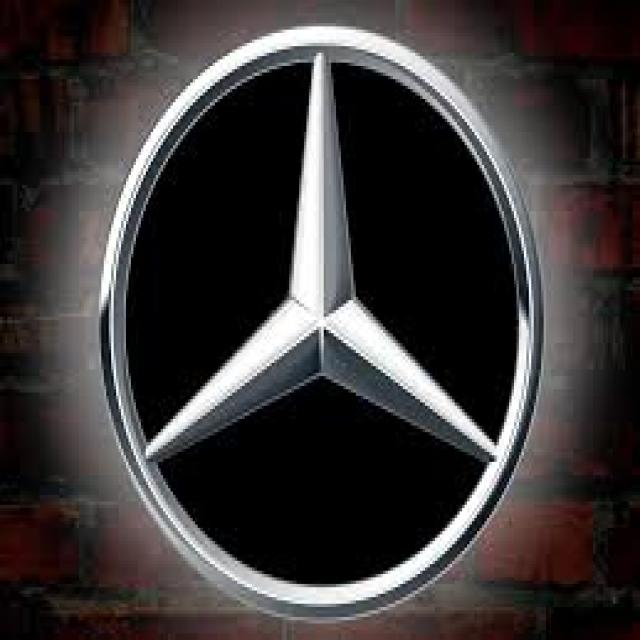mercedes: (85, 18, 552, 629)
